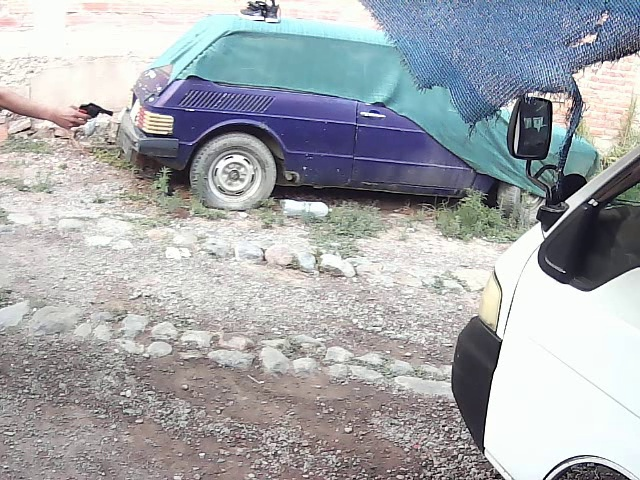pistola: (72, 97, 117, 123)
